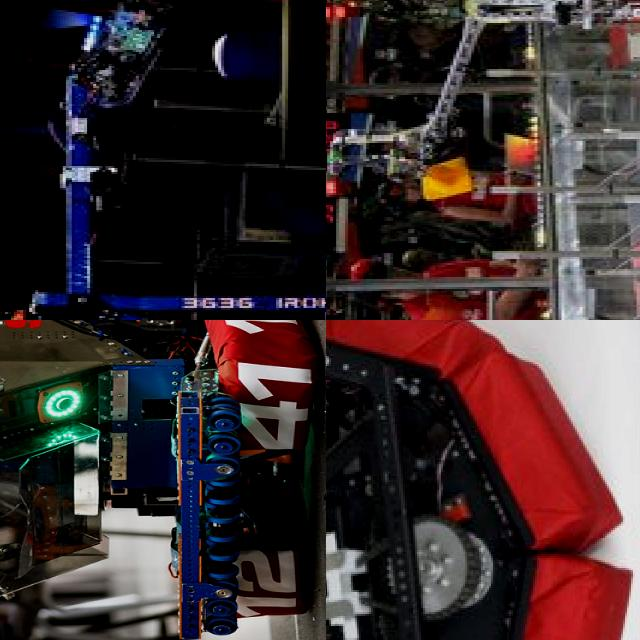FRC-Robots: (0, 0, 326, 320), (0, 320, 326, 640), (326, 320, 640, 640), (329, 0, 640, 201)
